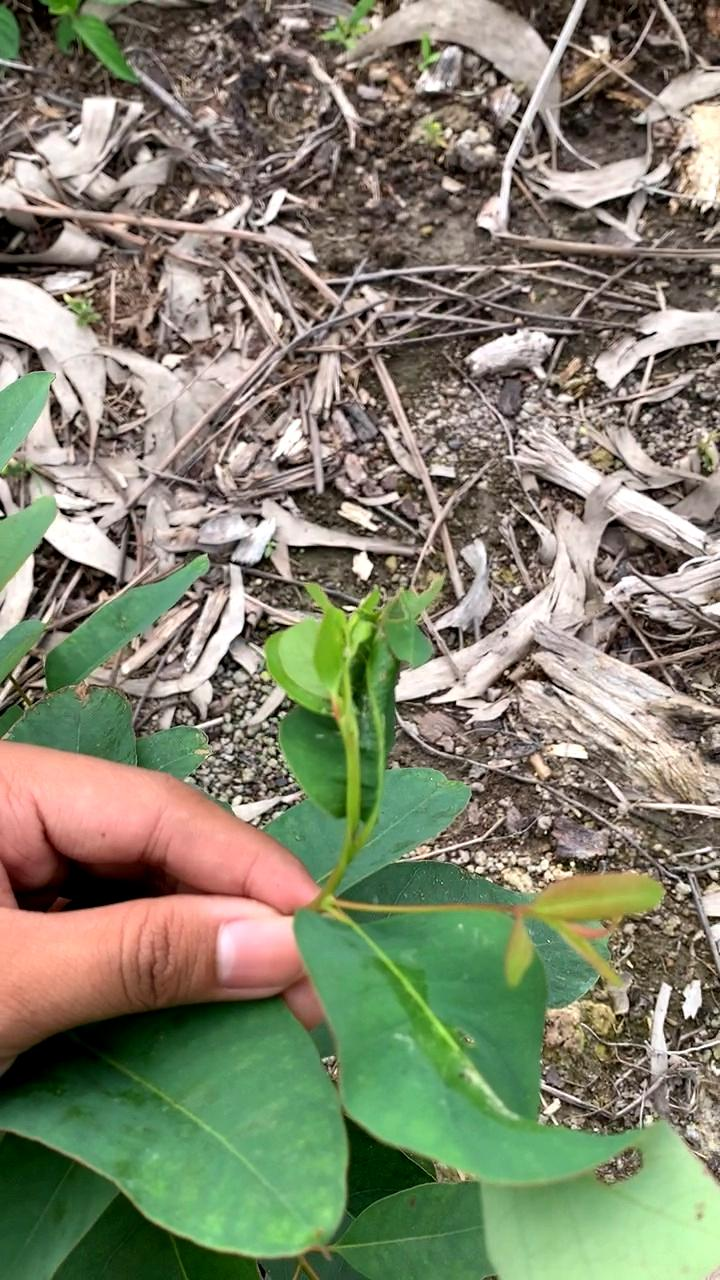Leaf Roller - Leaf: (251, 553, 465, 756)
